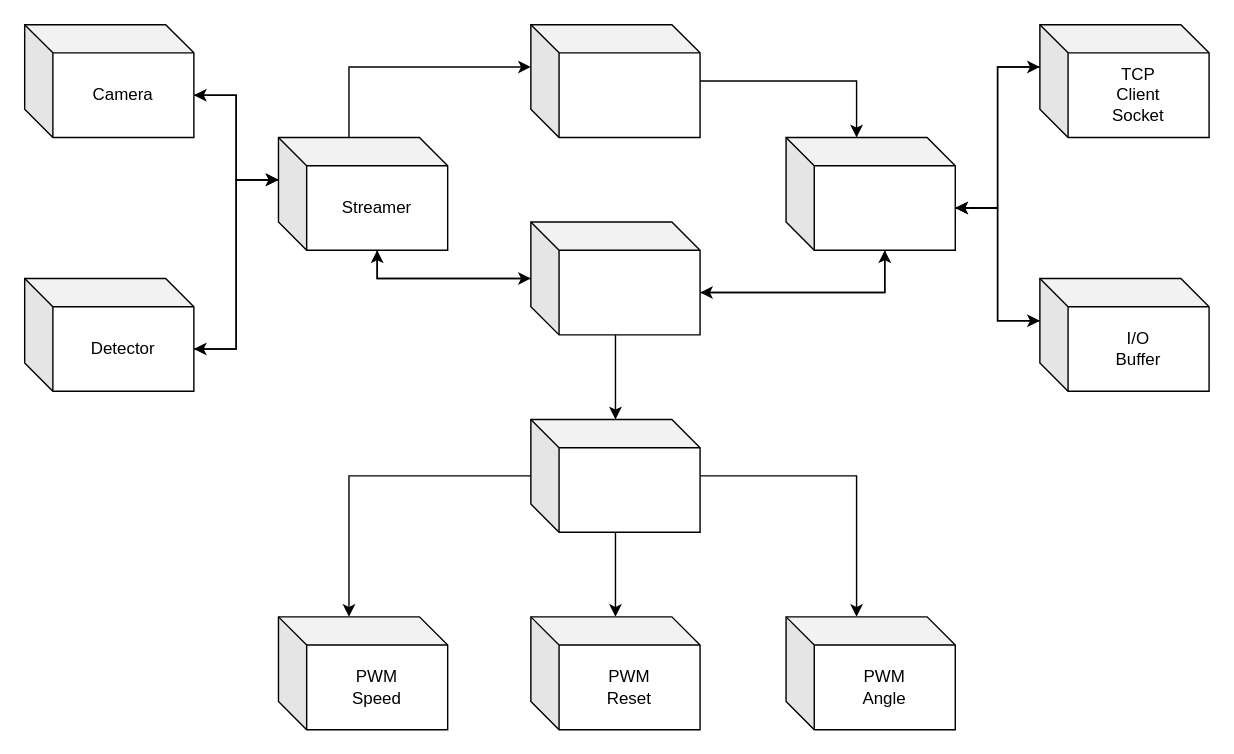
The diagram is 1234 pixels wide and 754 high, and some of its shapes have lost their labels. The centre of each missing label's shape, as x and y in pixels:
"Client Handler" belongs at (x=870, y=193).
"Event Handler" belongs at (x=614, y=278).
"PWM Controller" belongs at (x=614, y=475).
"Stream Handler" belongs at (x=614, y=80).
